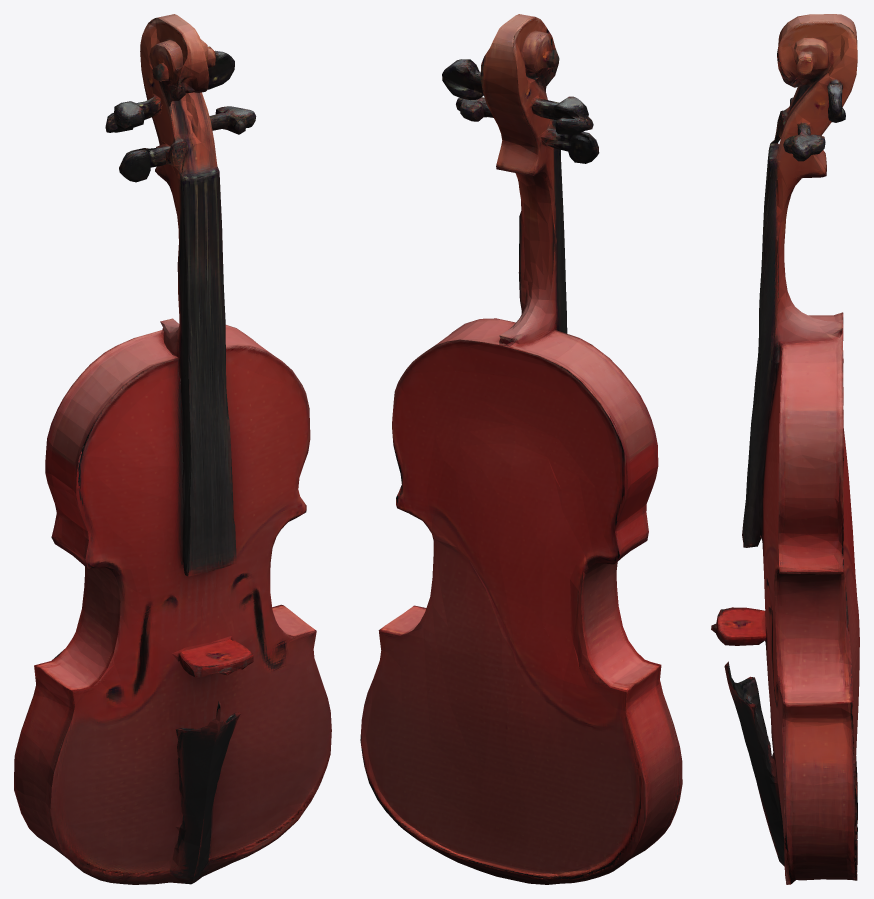
File: before.glb
The picture shows the model from 3 angles, left to right: view 1: azimuth 30°, elevation 25°; view 2: azimuth 150°, elevation 25°; view 3: azimuth 270°, elevation 25°; orthographic projection.
Visible parts, largest first — view 1: world; view 2: world; view 3: world.
Part boxes in pixels (x1,y1,x2,y2): world: (14,14,331,884); world: (360,14,682,884); world: (711,14,859,884).
Size of the model in its own units: 0.3505 by 0.9979 by 0.1585.
Materials: 1 (1 with a texture image).
